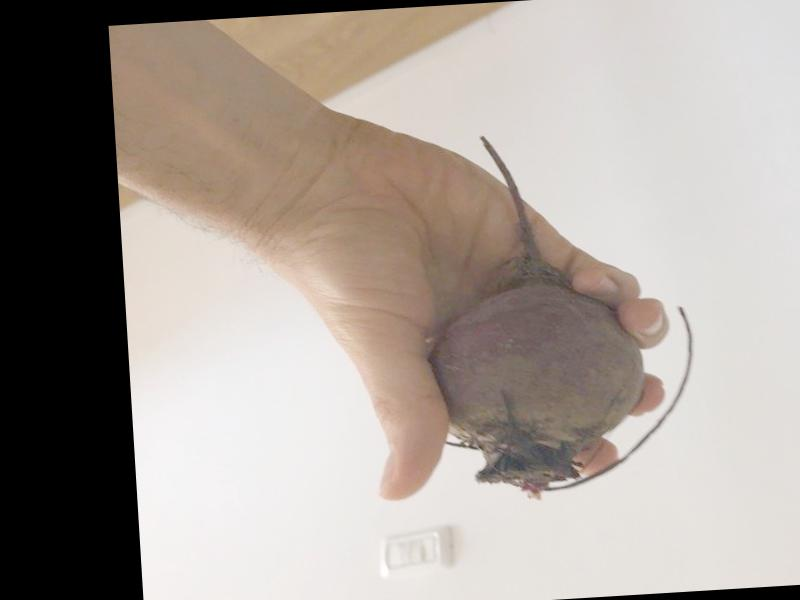Beet: (424, 124, 704, 503)
